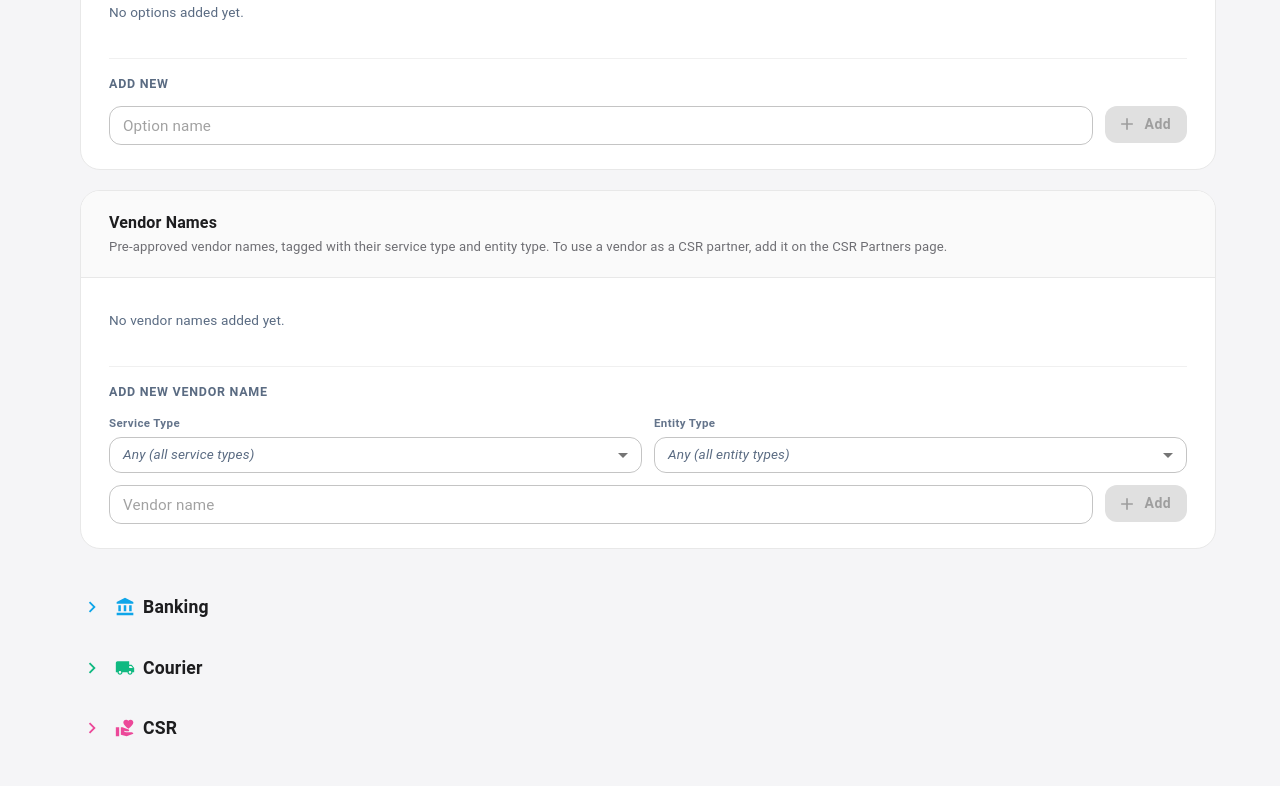
Scenario: the CSR section lists the activity types from the CSR API
(page scrolled)
Click the text "CSR" at (160, 728), box [143,715,177,741]
(page scrolled)
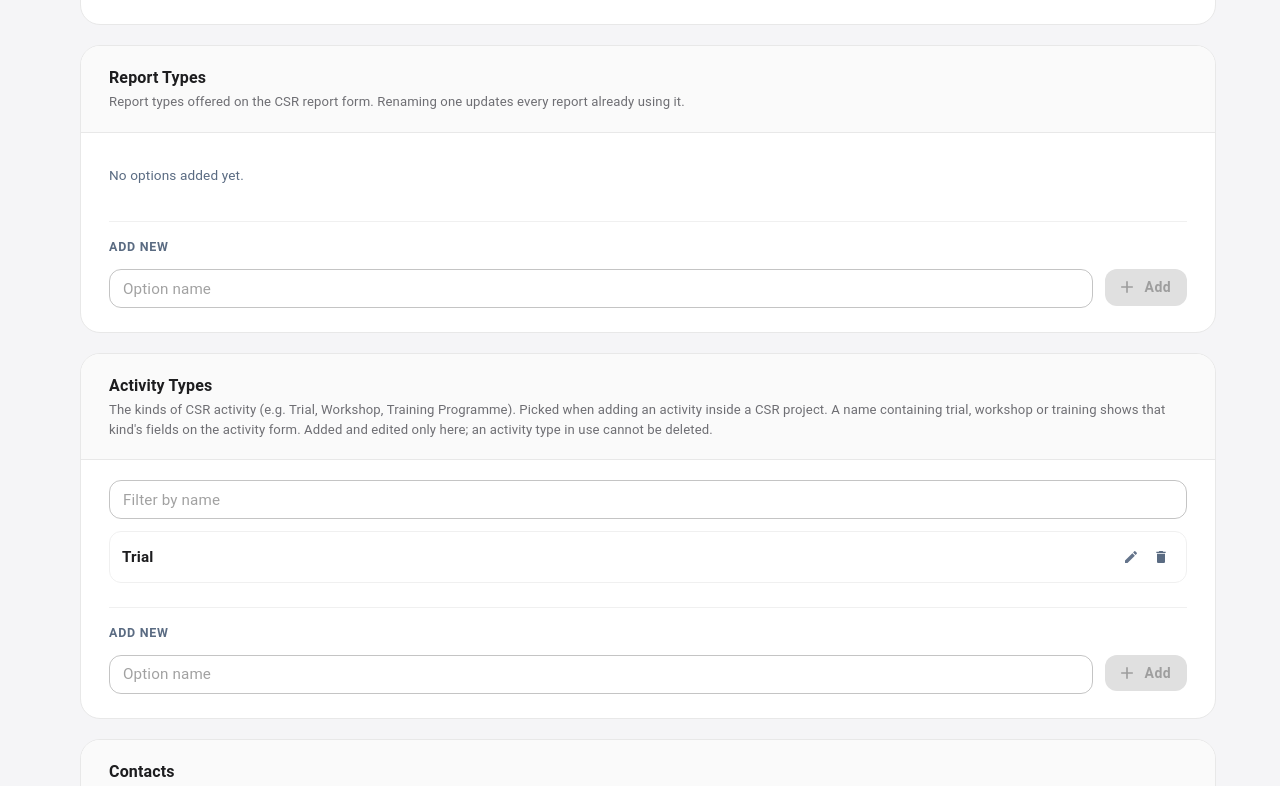
Expected: the text "Trial" is shown, [122,546,153,569]
Expected: the text "Activity Types" is shown, [109,376,212,395]
